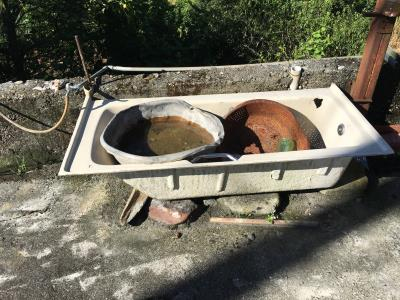bowl: (98, 98, 225, 165), (223, 97, 304, 158)
tub: (55, 82, 392, 202)
